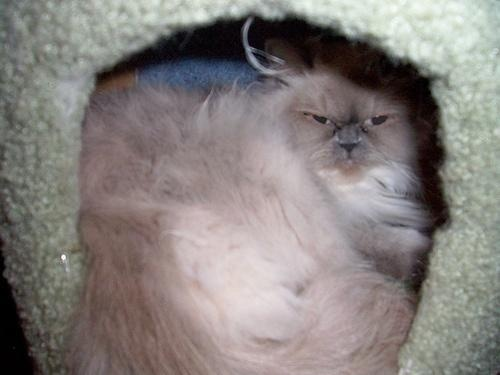cat: (86, 66, 415, 375)
